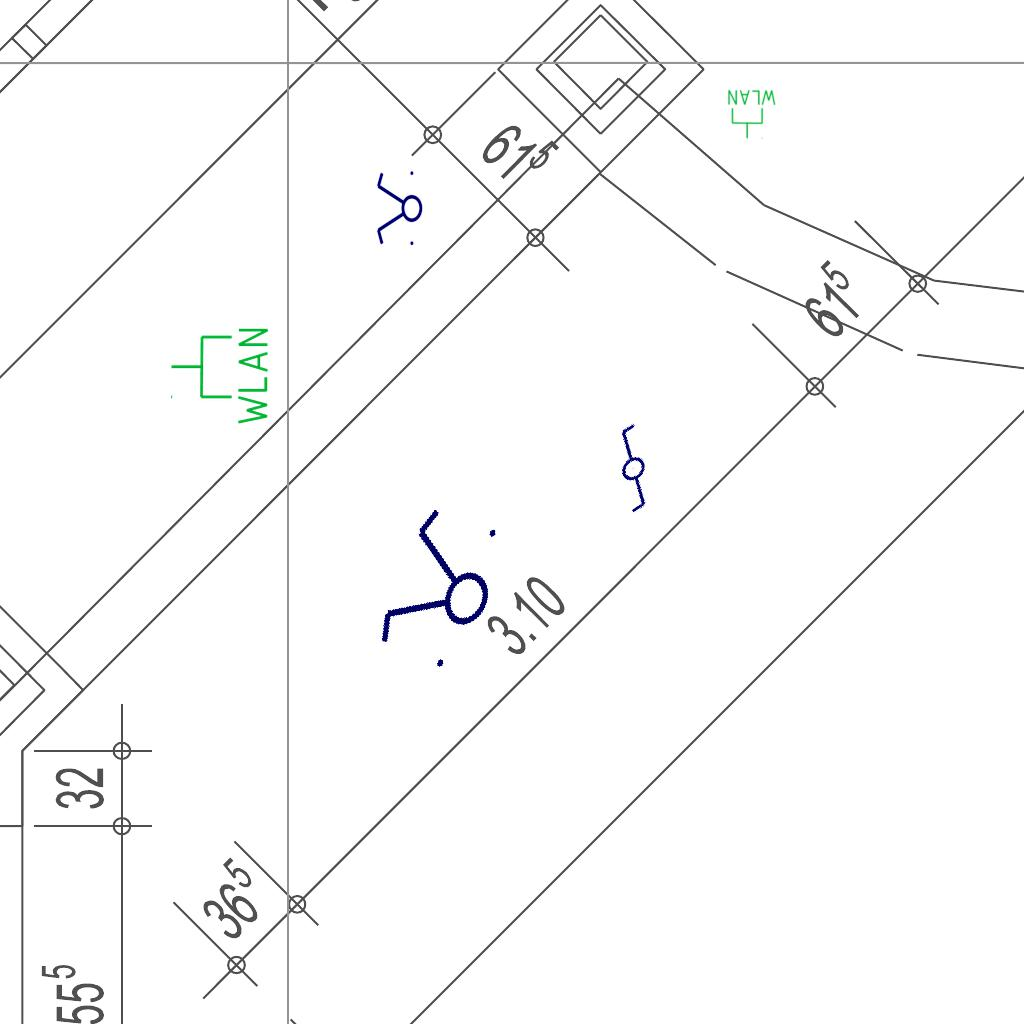Serienschalter: (366, 494, 518, 686), (375, 167, 423, 251)
WLAN: (168, 324, 272, 429), (726, 88, 778, 140)
Wechselschalter: (577, 417, 683, 525)
